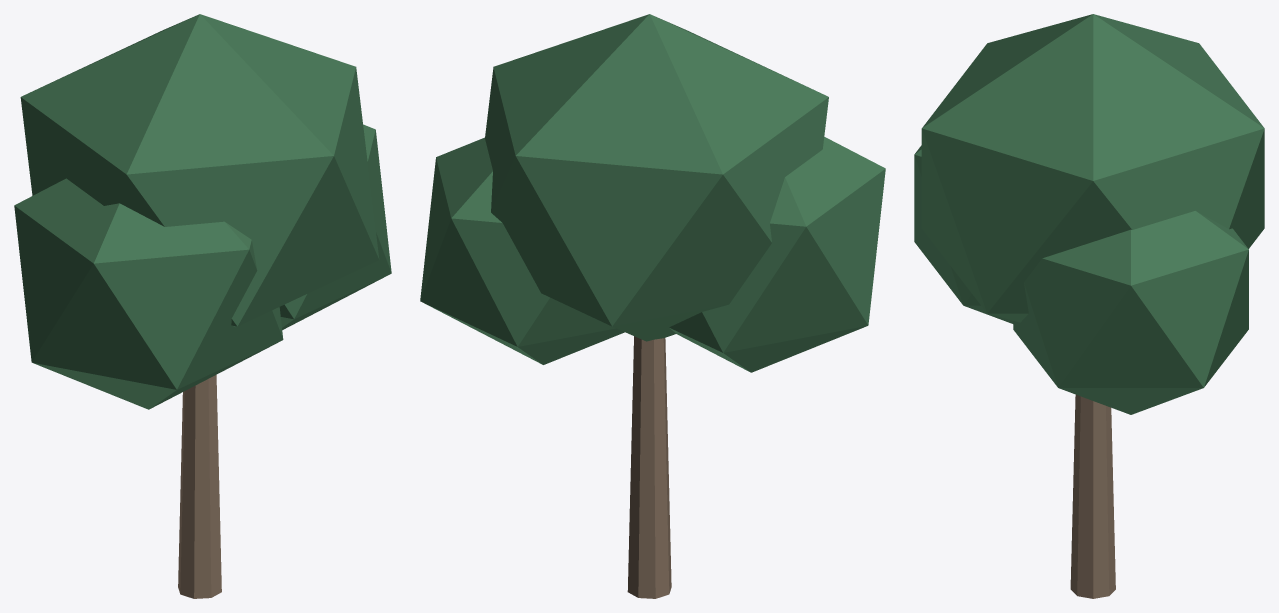
The model's file is Tree_01.fbx.
3 renders of one model, left to right at view 1: azimuth 30°, elevation 25°; view 2: azimuth 150°, elevation 25°; view 3: azimuth 270°, elevation 25°, orthographic.
Visible parts, largest first — view 1: Tree_01_Foliage, Tree_01_Bark; view 2: Tree_01_Foliage, Tree_01_Bark; view 3: Tree_01_Foliage, Tree_01_Bark.
Boxes of the visible parts, x1,y1,x2,y2 form: Tree_01_Foliage: (14, 14, 391, 409); Tree_01_Bark: (178, 375, 221, 598); Tree_01_Foliage: (420, 14, 885, 372); Tree_01_Bark: (627, 336, 671, 598); Tree_01_Foliage: (914, 14, 1264, 414); Tree_01_Bark: (1070, 394, 1115, 598).
Bounding box in the file's own units: 3.56 × 5.04 × 2.78.
